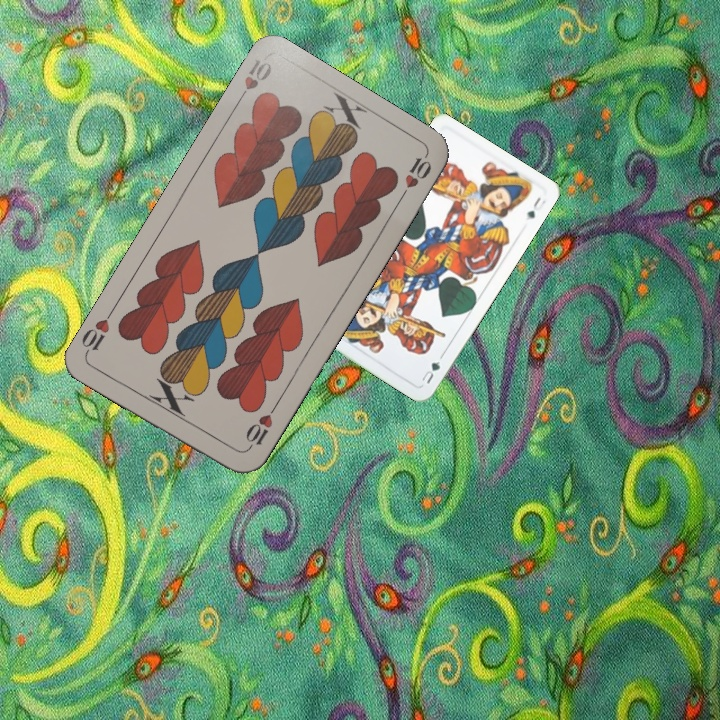GU: (417, 357, 443, 386)
H10: (232, 55, 275, 108), (241, 401, 280, 454)
